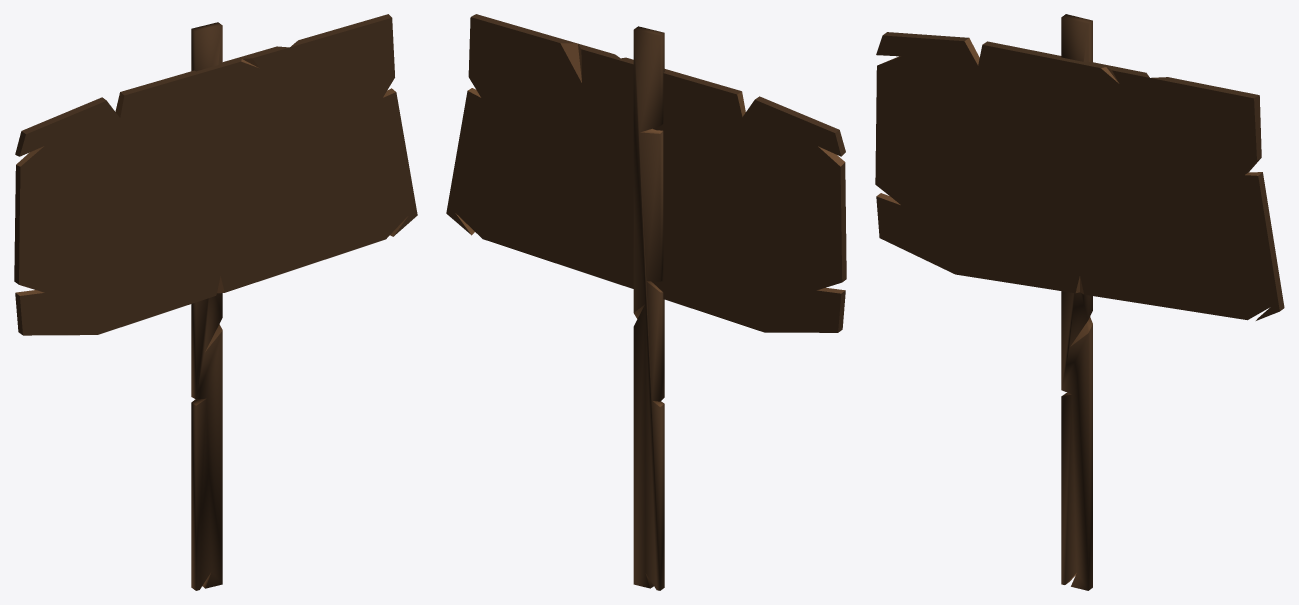
File: Sign_2_Dark_Brown.fbx
3 renders of one model, left to right at view 1: azimuth 30°, elevation 25°; view 2: azimuth 150°, elevation 25°; view 3: azimuth 330°, elevation 25°, orthographic. The views are drawn at different scales.
Visible parts, largest first — view 1: Sign_2_Dark_Brown; view 2: Sign_2_Dark_Brown; view 3: Sign_2_Dark_Brown.
Part boxes in pixels (x1=…): Sign_2_Dark_Brown: x1=14, y1=14, x2=417, y2=590; Sign_2_Dark_Brown: x1=446, y1=14, x2=846, y2=590; Sign_2_Dark_Brown: x1=875, y1=14, x2=1284, y2=590.
Size of the model in its own units: 149 by 200 by 5.
